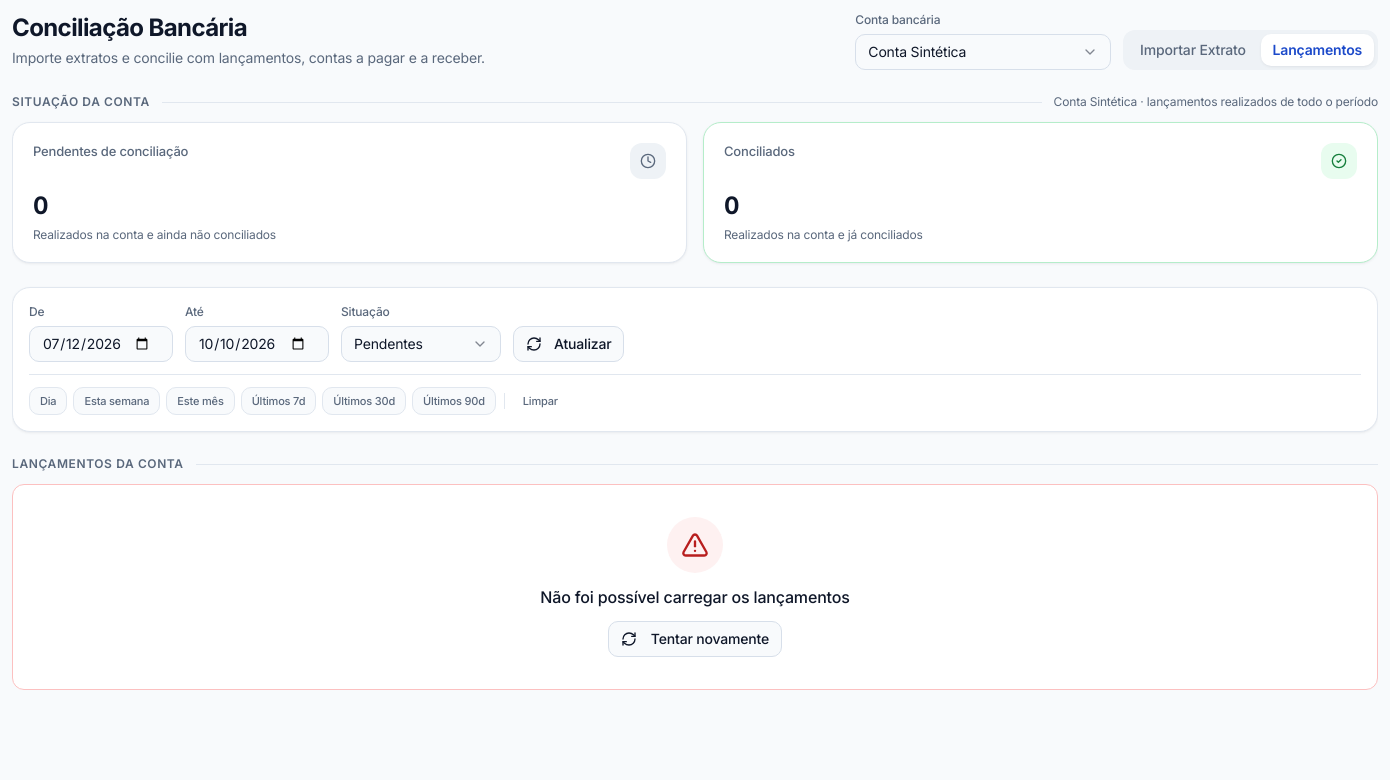
Test: Conciliação Bancária — visão Lançamentos › falha na lista vira erro com nova tentativa — nunca "Nenhum lançamento encontrado"
The image size is (1390, 780).
Expected: the text "Não foi possível carregar os lançamentos" is shown, [540,587,850,607]
Click the button "Tentar novamente": (695, 639) [608,621,782,657]
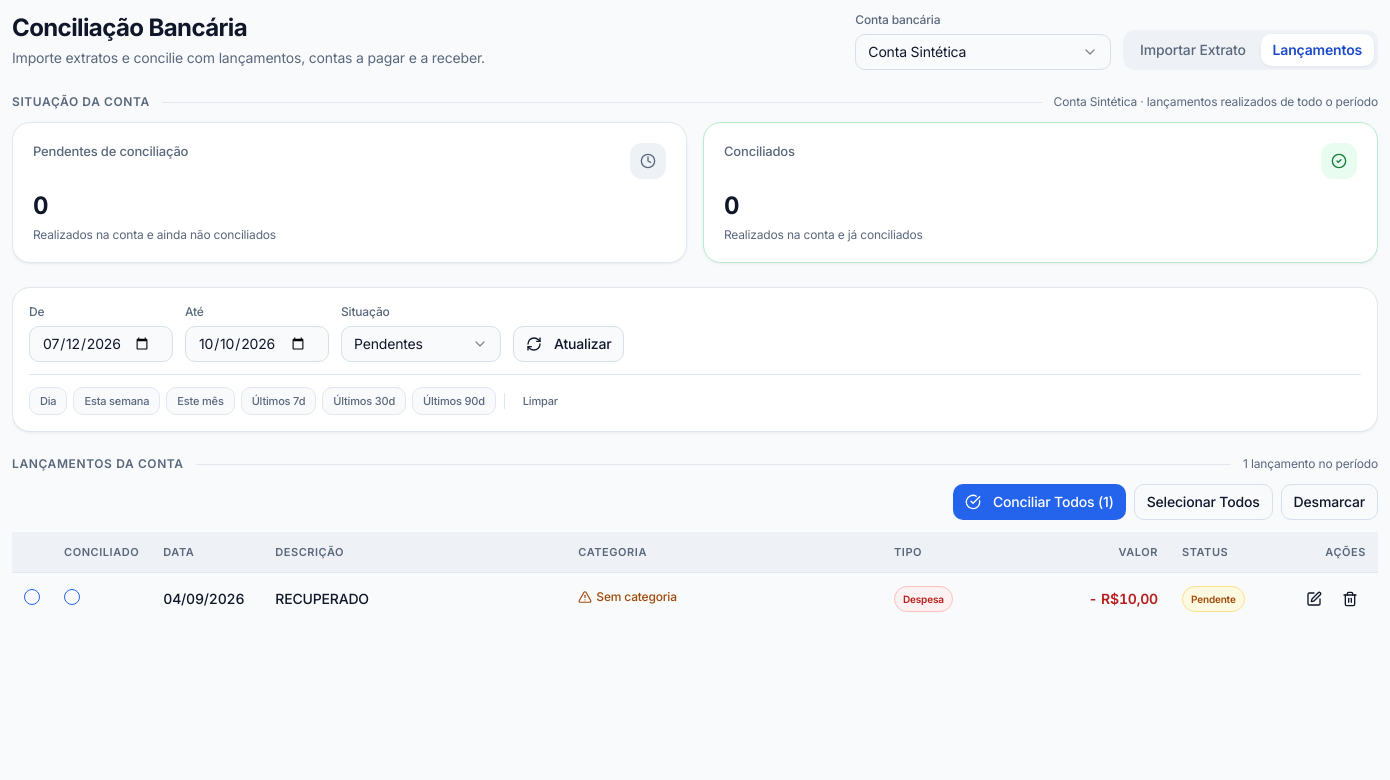
Expected: the text "RECUPERADO" is shown, [263,572,566,624]
